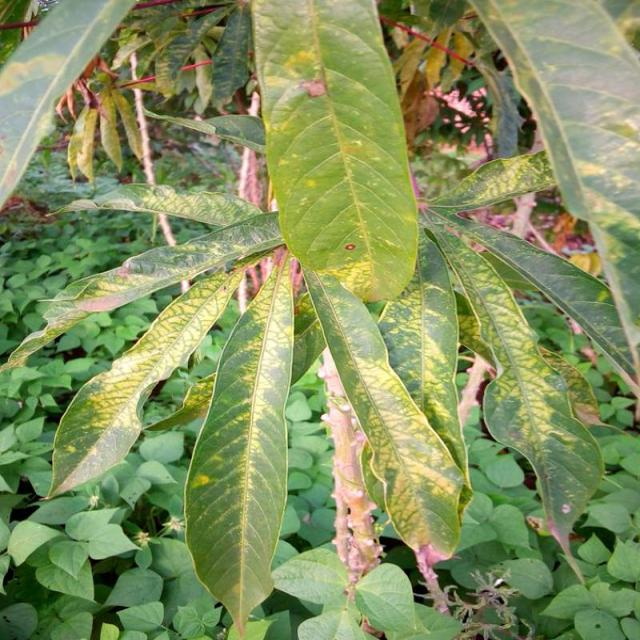cassava leaf: (2, 0, 638, 634), (250, 0, 421, 304), (301, 261, 468, 559), (44, 265, 246, 500), (183, 250, 297, 634)
